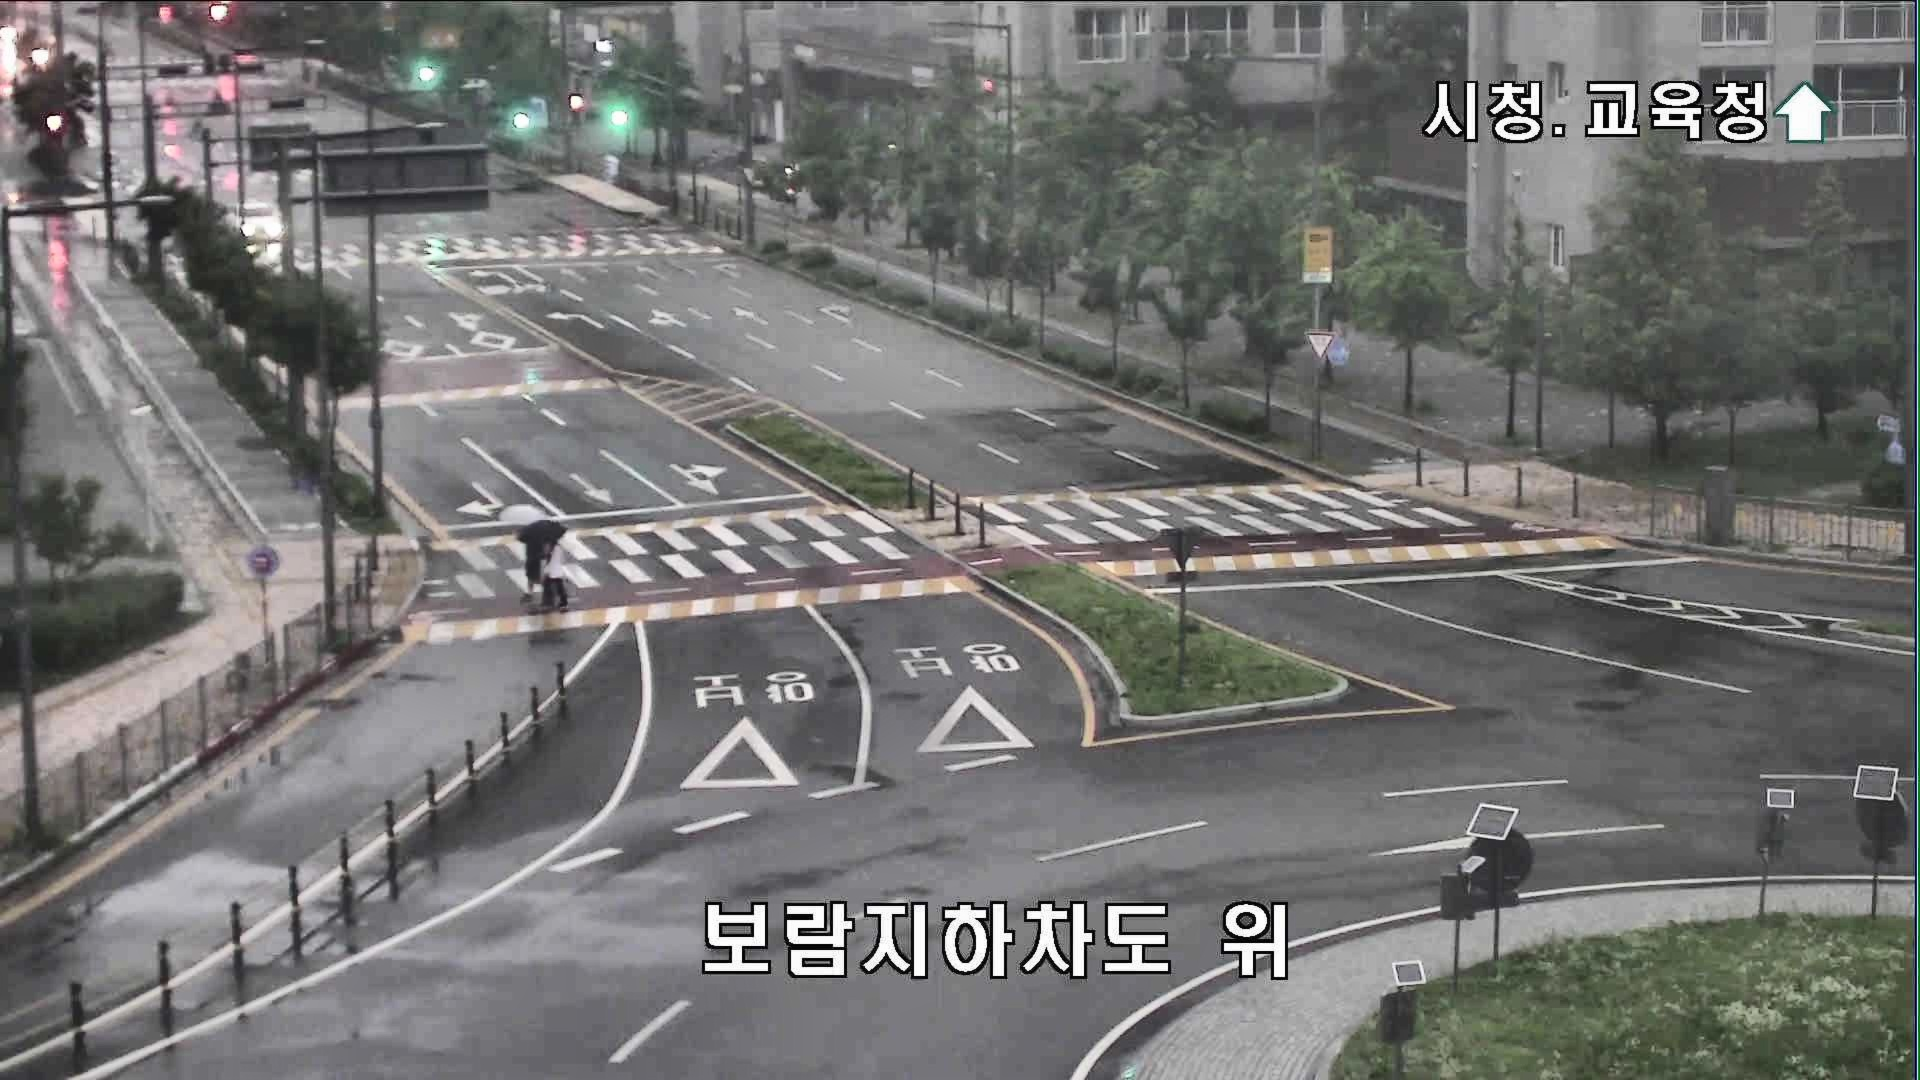um_crosswalk: (535, 518, 574, 613), (520, 524, 549, 601)
